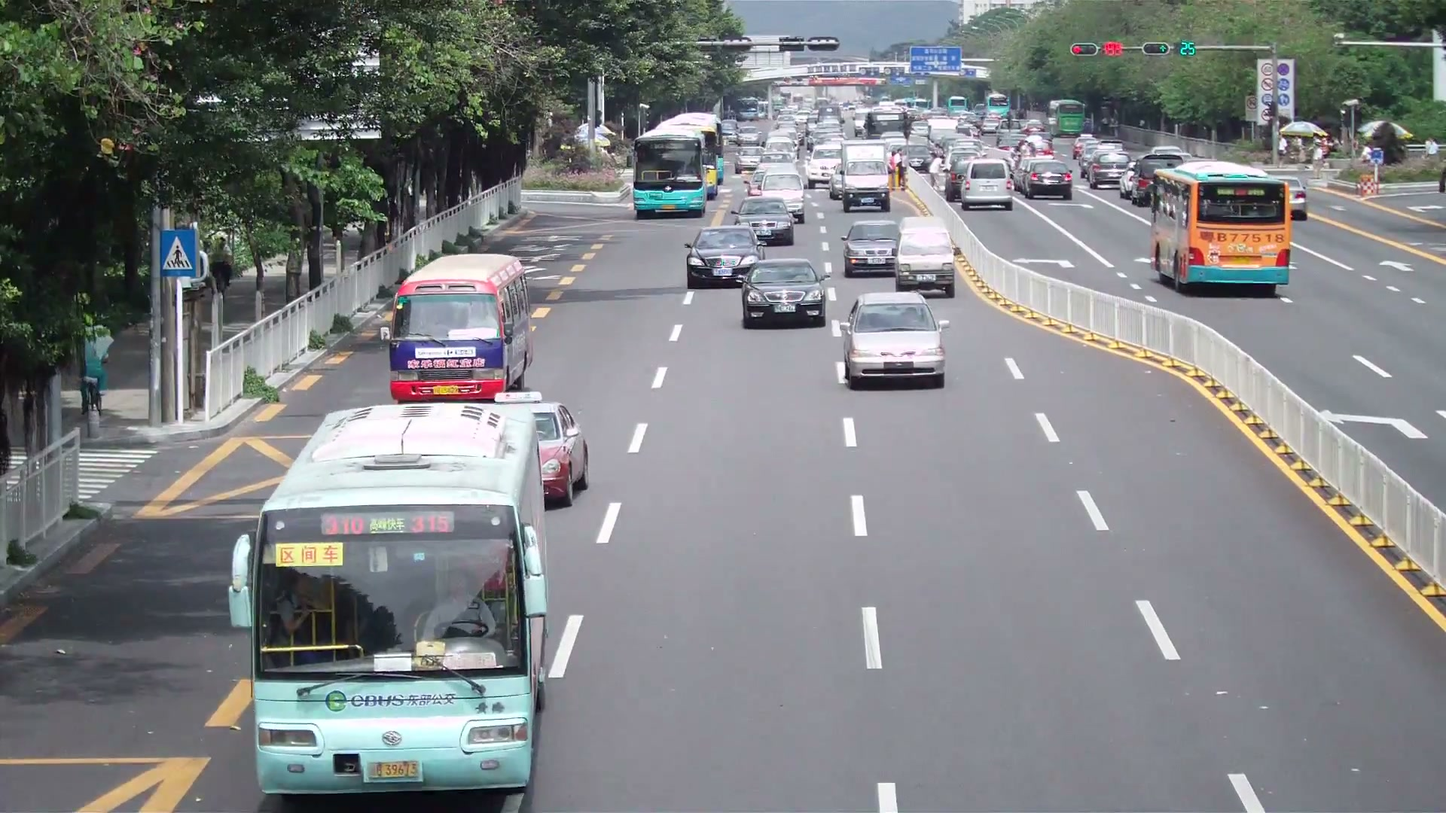bus: (228, 400, 552, 800), (385, 253, 535, 404), (1148, 159, 1293, 294), (633, 113, 719, 218)
car: (837, 293, 947, 390), (497, 392, 587, 507), (740, 257, 828, 329), (892, 220, 957, 297), (685, 227, 763, 289), (1120, 150, 1185, 206), (841, 215, 900, 276), (958, 158, 1015, 211), (736, 197, 795, 245), (1020, 155, 1075, 200), (1086, 147, 1132, 187)
pedestrian: (412, 562, 496, 642)
truck: (385, 252, 533, 403), (831, 138, 890, 212)
